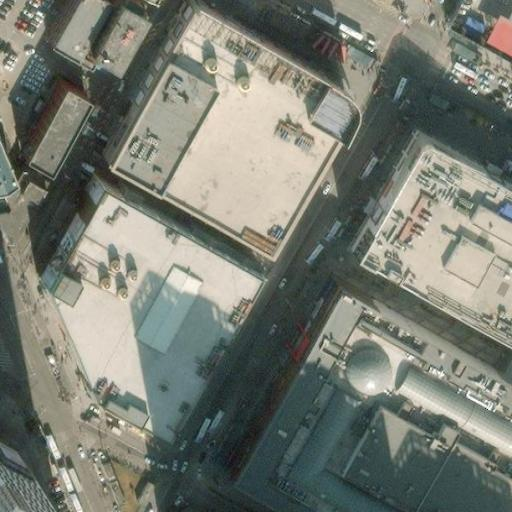building: (211, 268, 512, 512), (27, 164, 247, 421), (336, 124, 512, 334), (12, 76, 74, 157), (0, 164, 45, 242), (483, 16, 512, 55)
